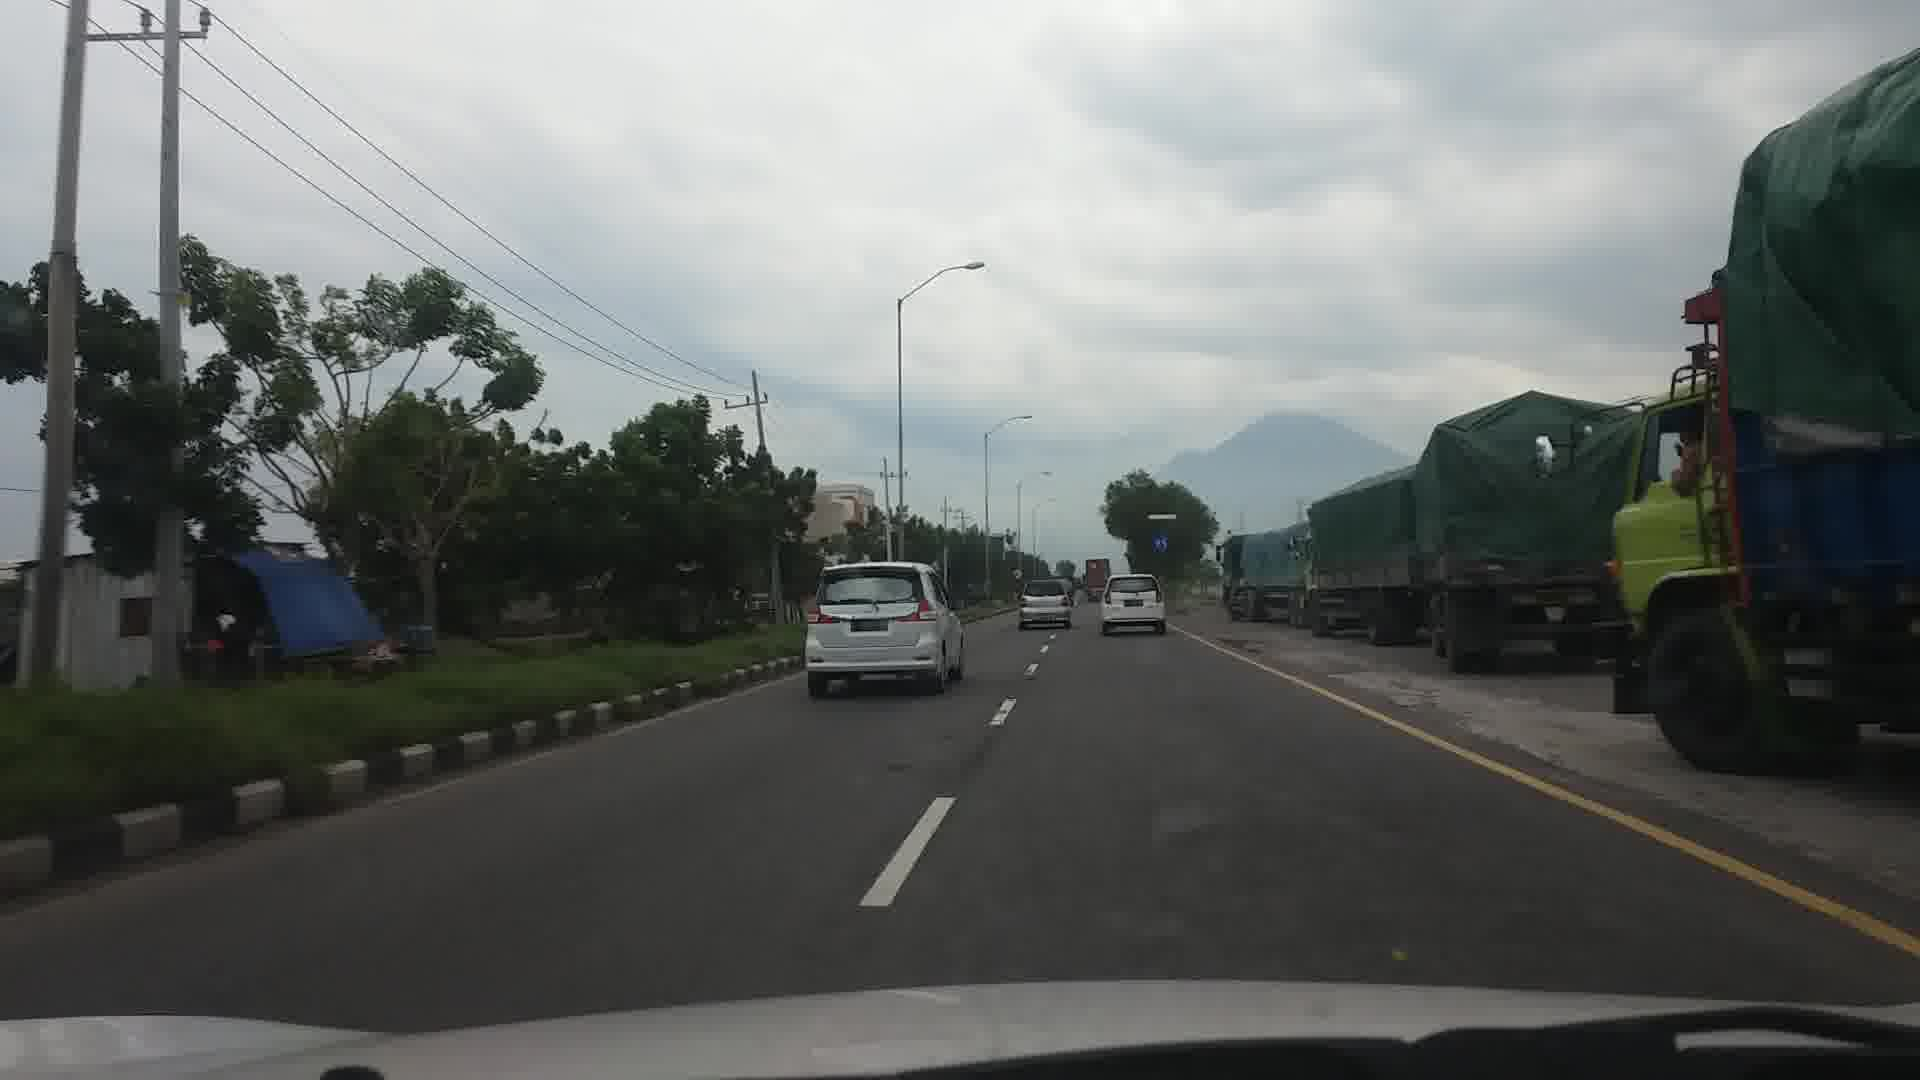plate_positive: (851, 620, 887, 632), (1125, 600, 1143, 607)
